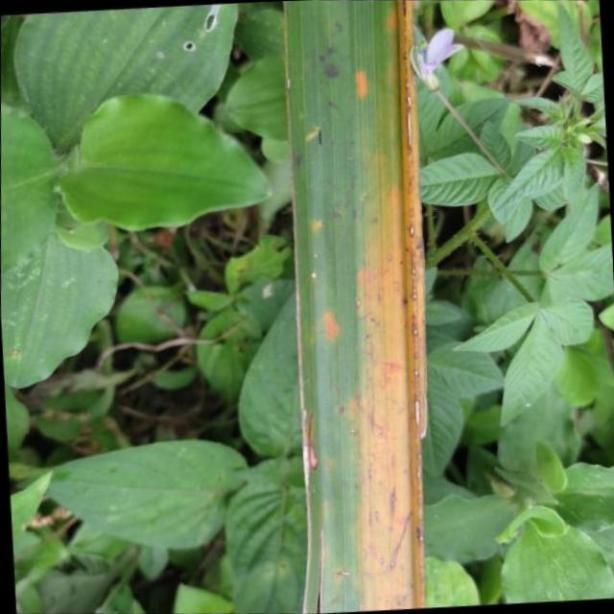Megnesium: (285, 0, 435, 614)
